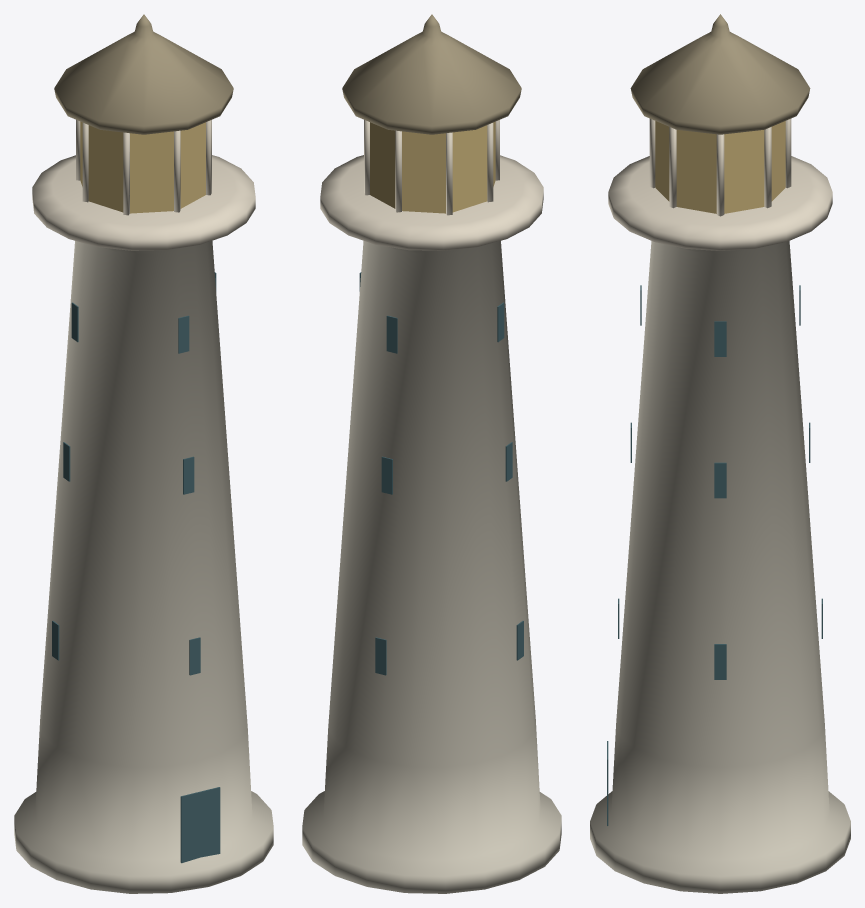
File: alc_lighthouse_far.glb
3 renders of one model, left to right at view 1: azimuth 30°, elevation 25°; view 2: azimuth 150°, elevation 25°; view 3: azimuth 270°, elevation 25°, orthographic.
Visible parts, largest first — view 1: alc_lighthouse_far; view 2: alc_lighthouse_far; view 3: alc_lighthouse_far.
Boxes of the visible parts, x1,y1,x2,y2 form: alc_lighthouse_far: [14, 14, 273, 893]; alc_lighthouse_far: [302, 14, 561, 893]; alc_lighthouse_far: [590, 14, 850, 893].
Size of the model in its own units: 4.3 by 15 by 4.3.
